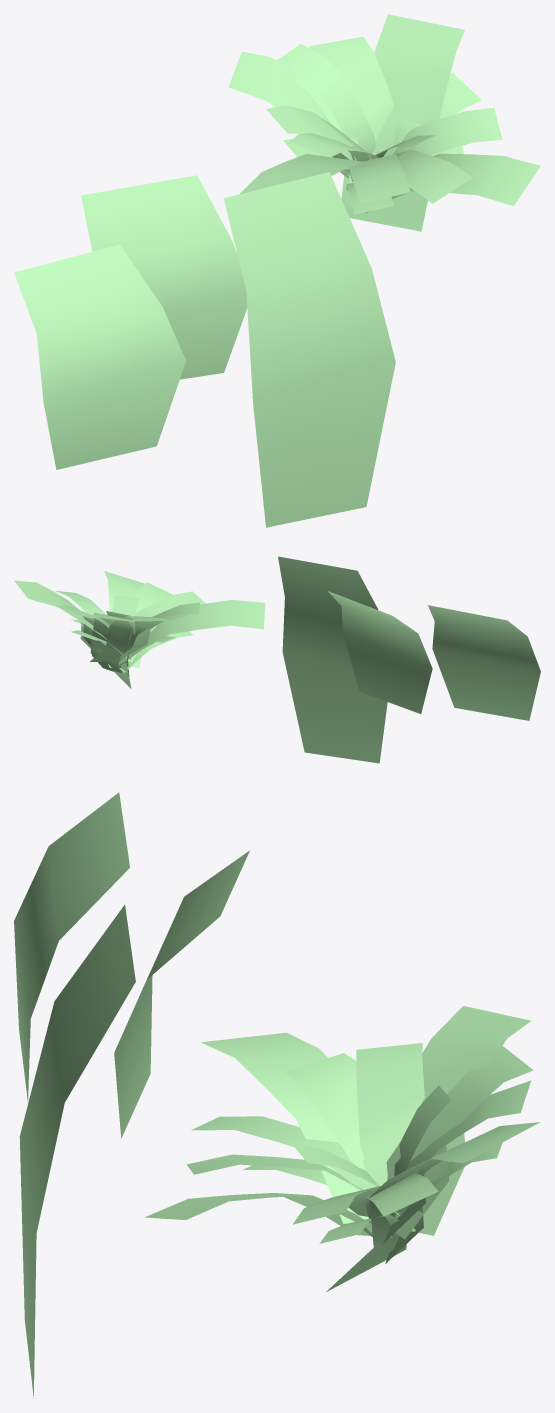
The model's file is sm_2dplants_05.gltf.
The picture shows the model from 3 angles, top to bottom: view 1: azimuth 30°, elevation 25°; view 2: azimuth 150°, elevation 25°; view 3: azimuth 270°, elevation 25°; orthographic projection. The views are drawn at different scales.
Visible parts, largest first — view 1: sm_2dplants_05; view 2: sm_2dplants_05; view 3: sm_2dplants_05.
Part boxes in pixels (x1,y1,x2,y2): sm_2dplants_05: (14,14,540,527); sm_2dplants_05: (14,556,540,763); sm_2dplants_05: (14,792,540,1398).
Size of the model in its own units: 1.56 by 0.788 by 0.8915.
